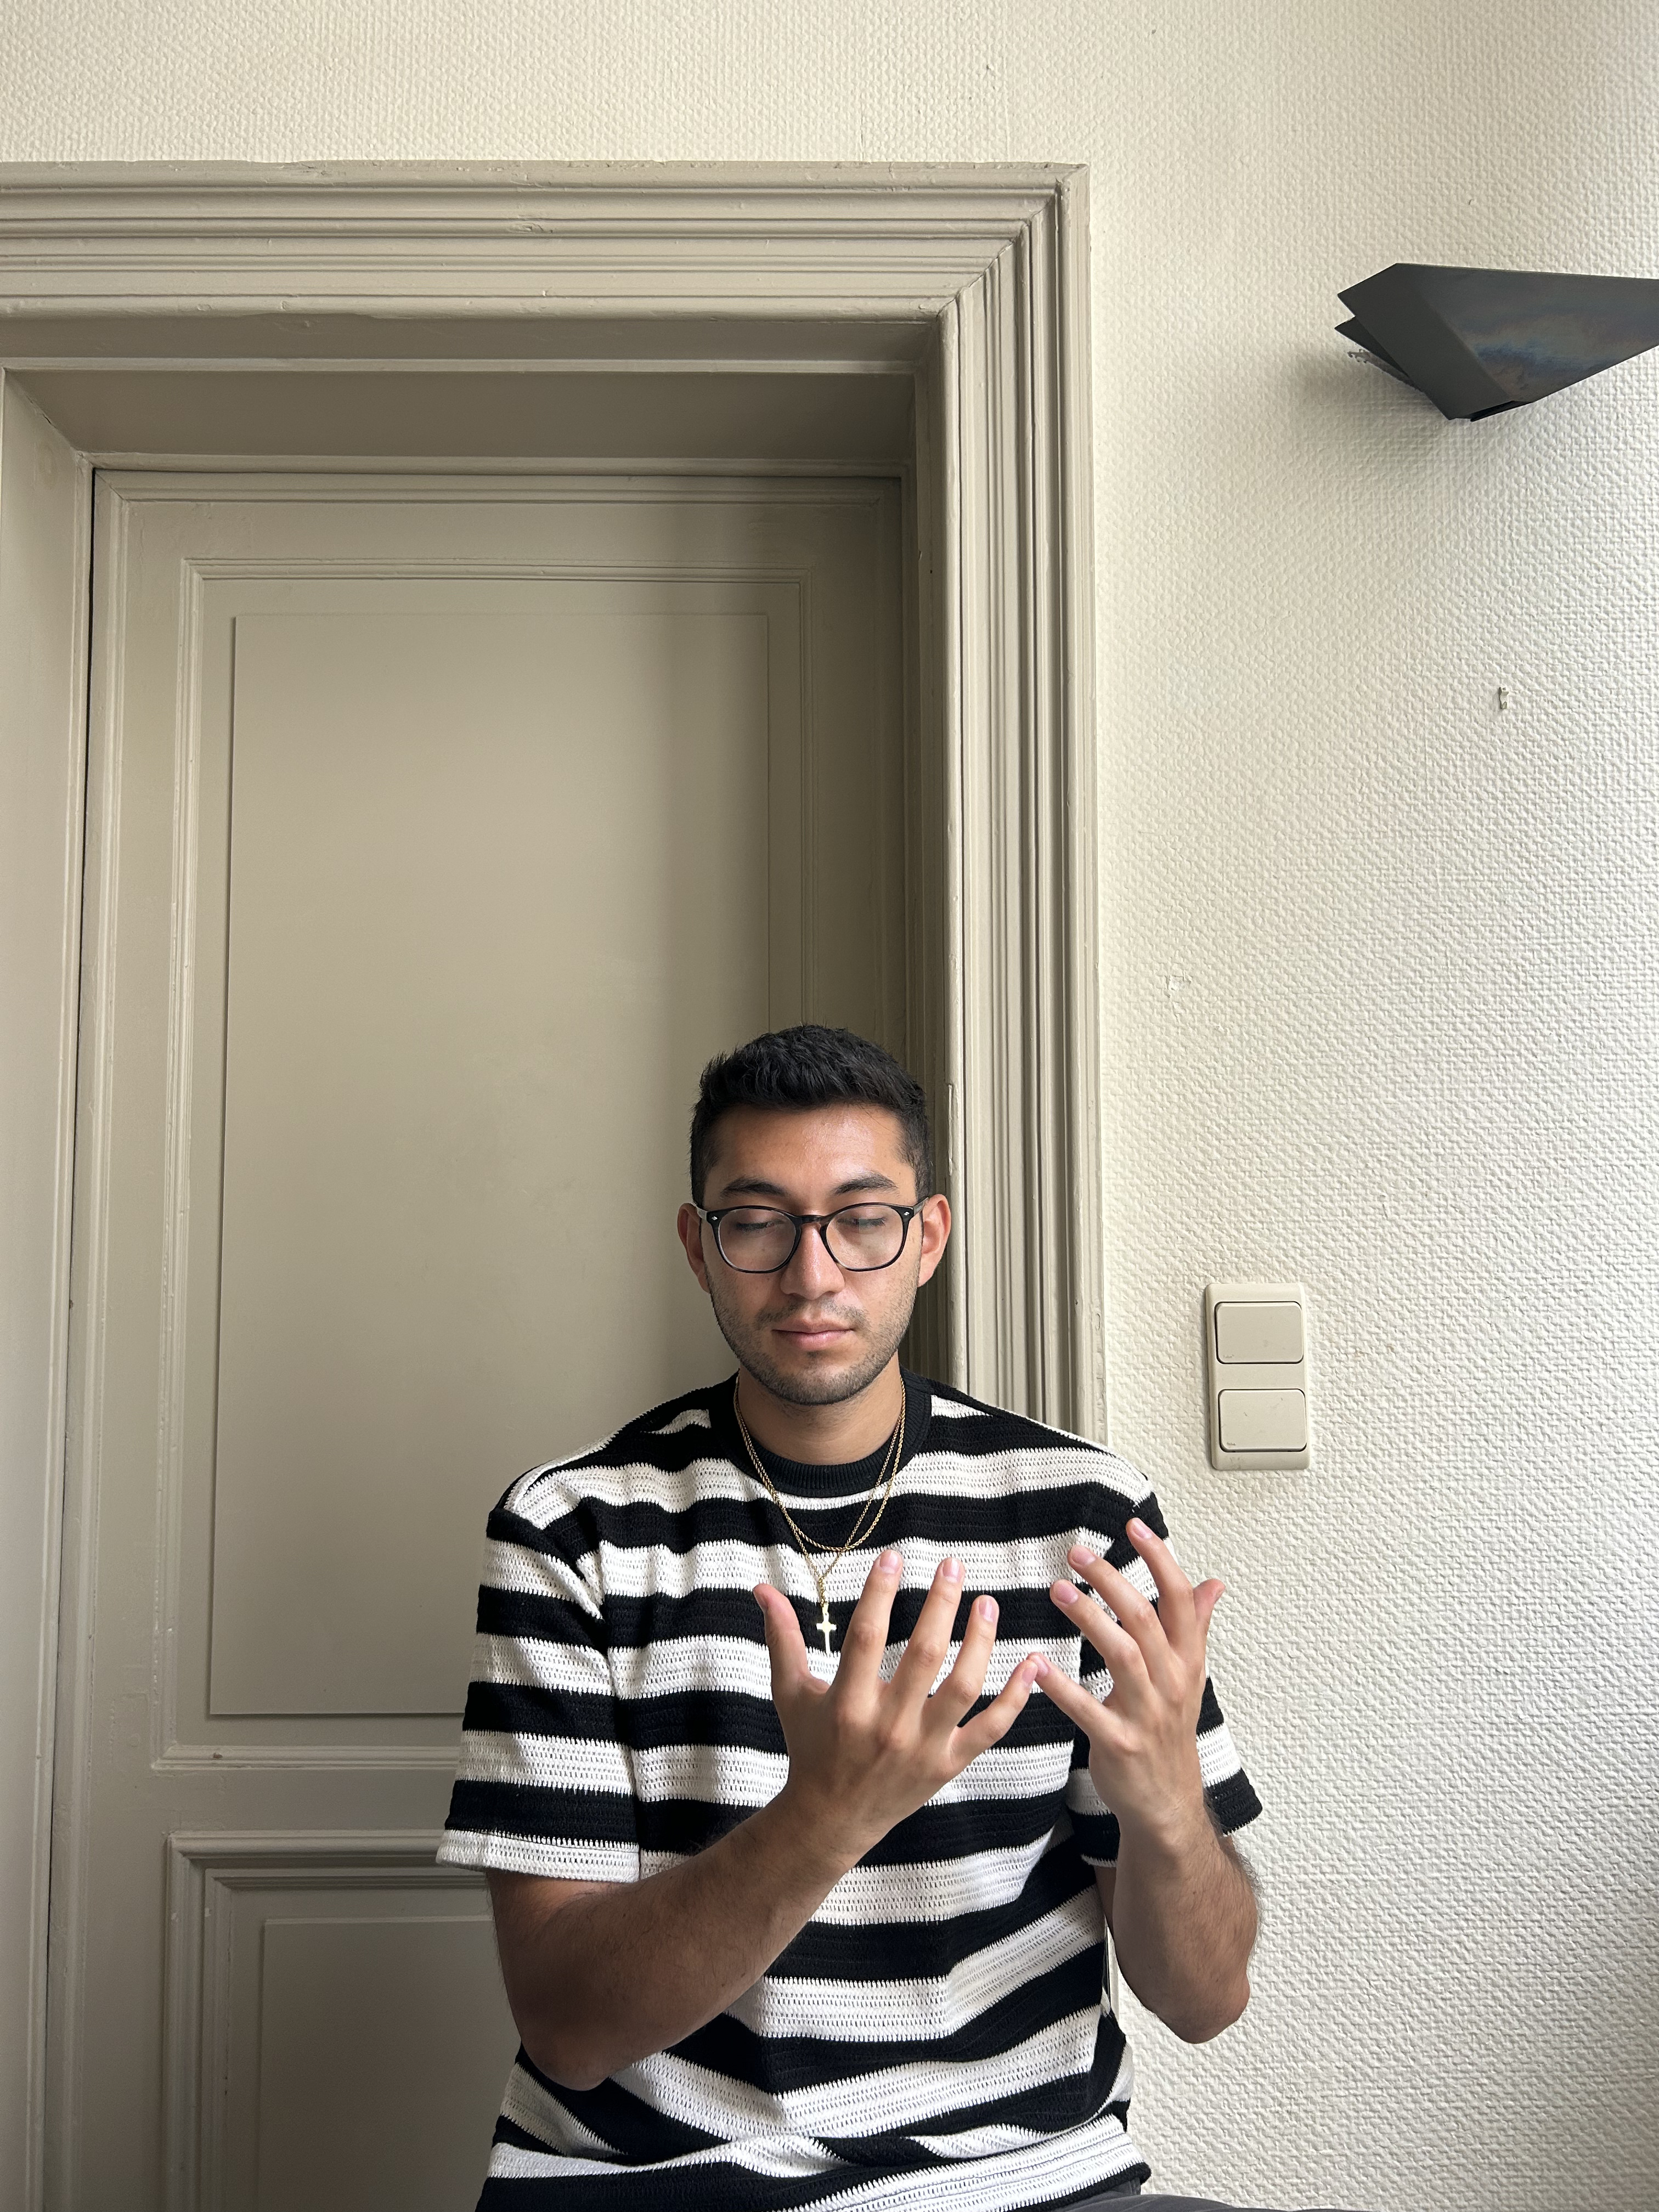group: (434, 1021, 1265, 2207)
